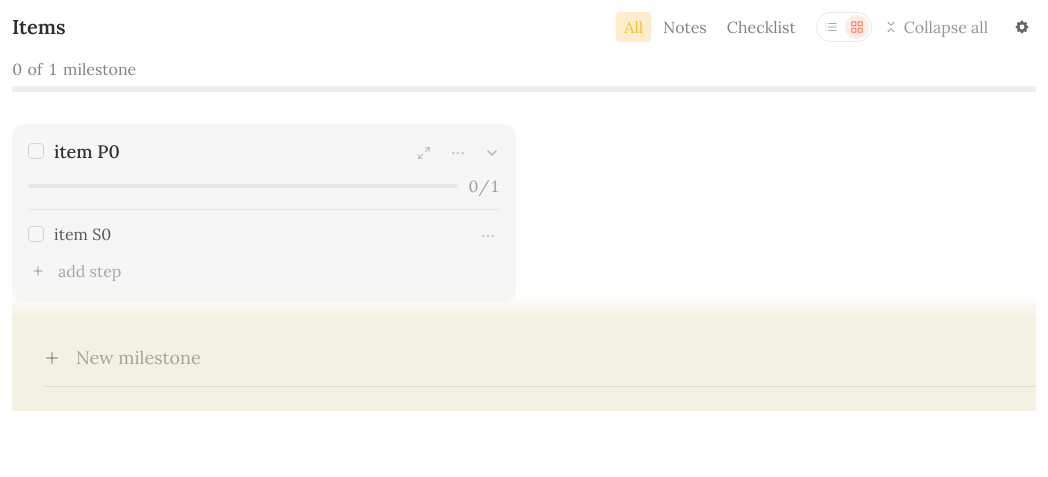
Test: Todo new-milestone composer › should keep filling and the trace when a card is clicked or a step ticked
This screenshot has width=1048, height=477.
Check: the text "item P0" is shown, box [54,140,120,163]
Step 1. Click the button "New milestone" → coordinates (138, 358), box [44,330,1036,387]
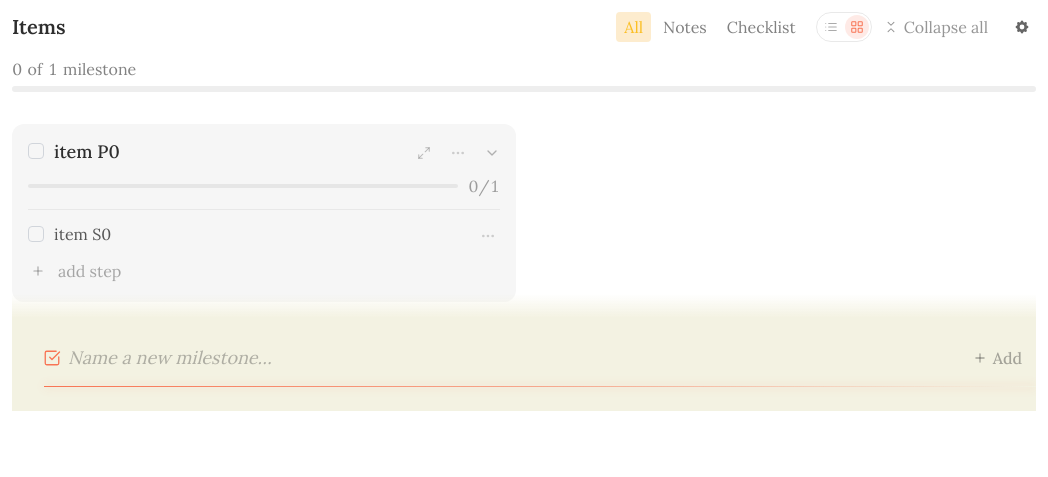
Step 2. Type "Launch" into the field labelled "Name a new milestone" → coordinates (507, 358), box [68,342,947,374]
Then press Enter
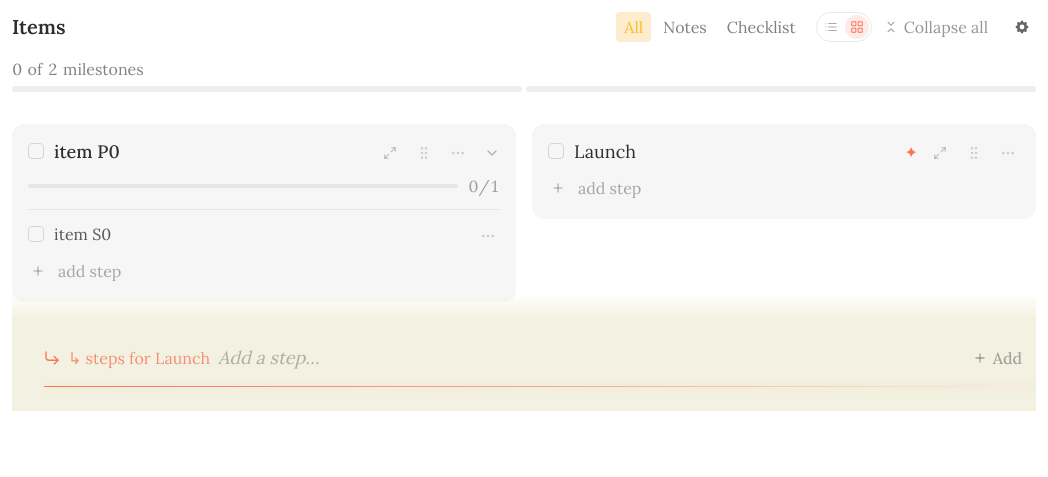
Step 3. Click the element showing "item P0 0/1 item S0 add step" → coordinates (264, 213), box [12,124,516,302]
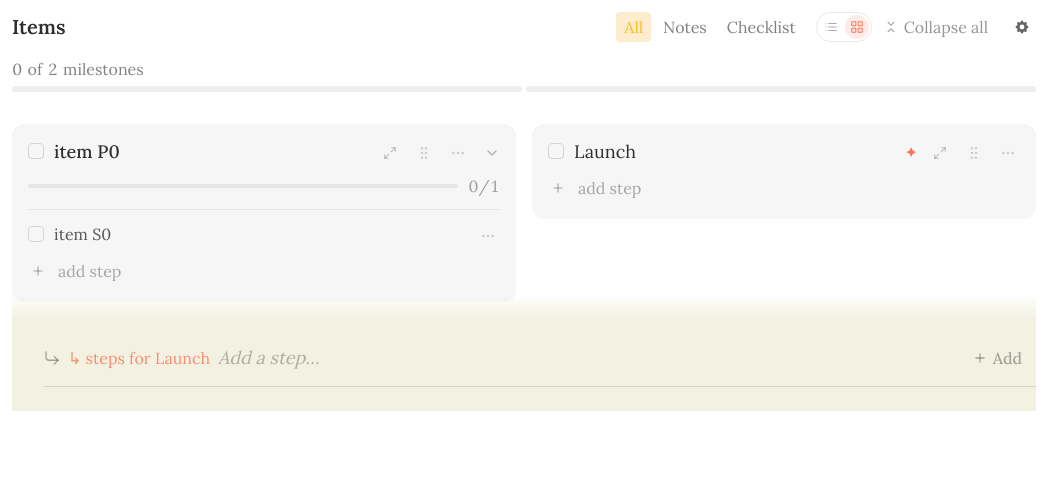
Step 4. Click the checkbox named "Mark item S0 done" → coordinates (36, 234), box [28,226,44,242]
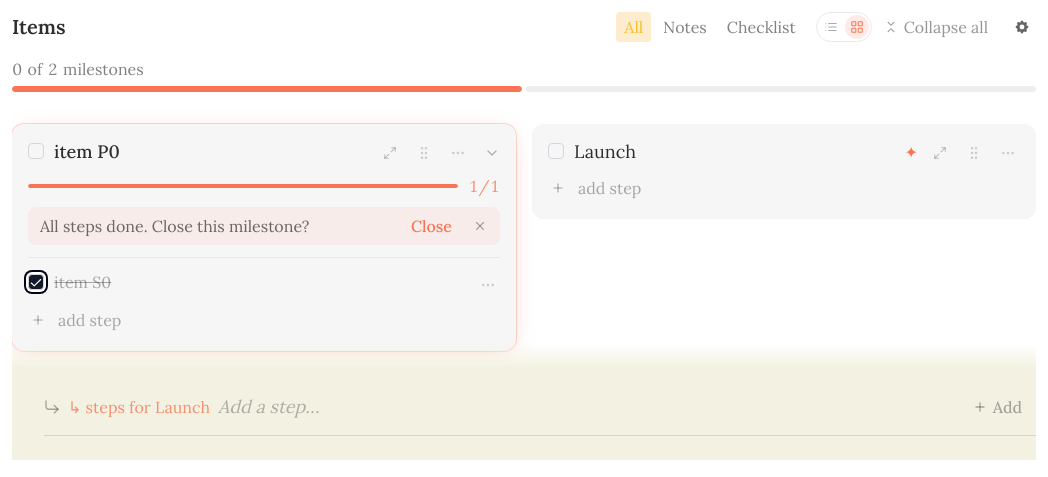
Step 5. Type "Write copy" into the field with placeholder "Add a step…" → coordinates (582, 407), box [218,391,947,423]
Then press Enter
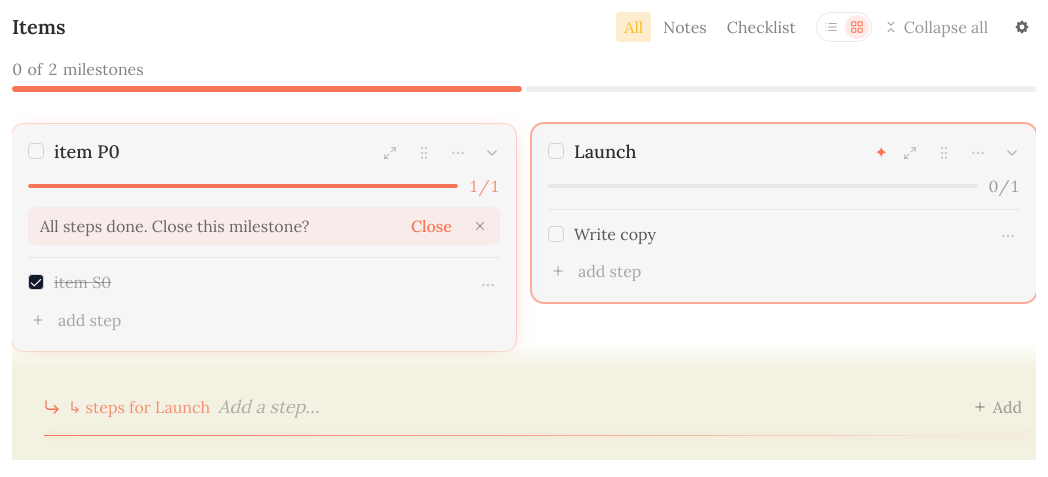
Check: the text "Write copy" is shown, box [574,224,656,244]
